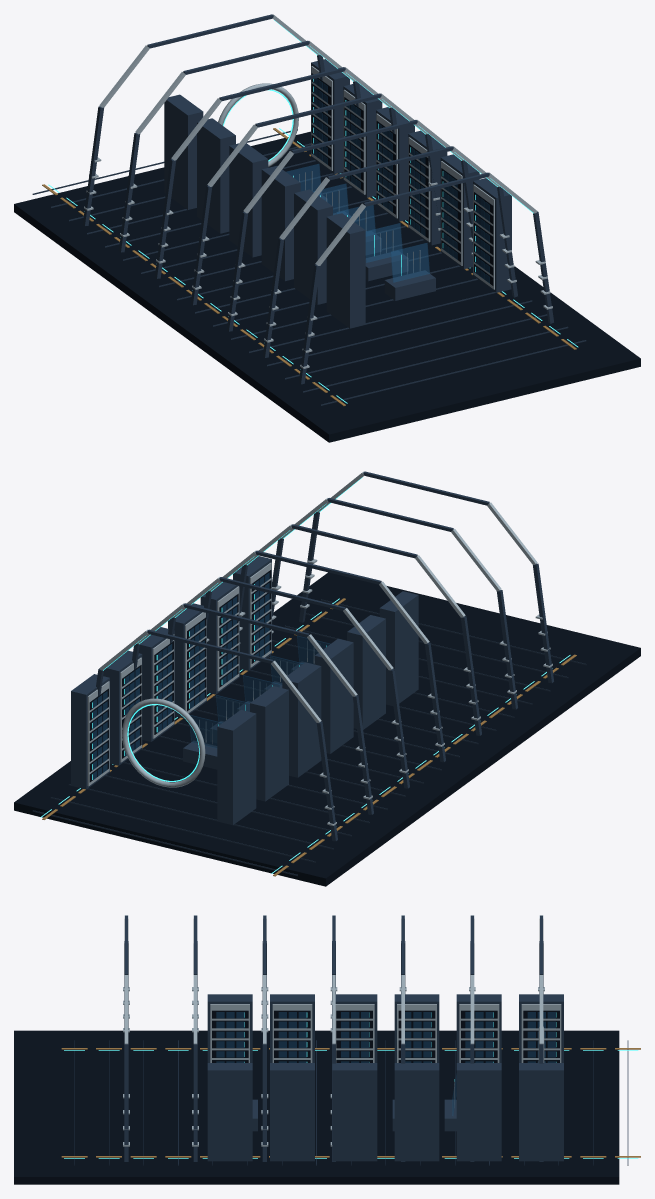
File: archive-mobile.glb
3 views of the same model, one above another, from view 1: azimuth 30°, elevation 25°; view 2: azimuth 150°, elevation 25°; view 3: azimuth 270°, elevation 25° (orthographic). The views are drawn at different scales.
Parts seen in each view (by area): view 1: object 1, architectural-heart, object 87, object 177, object 132, object 117, object 147, object 162, object 102, object 94, object 109, object 101 (+6 smaller); view 2: object 1, architectural-heart, object 177, object 132, object 87, object 162, object 102, object 117, object 147, object 101, object 146, object 116 (+5 smaller); view 3: object 1, architectural-heart, object 94, object 109, object 124.
Part boxes in pixels (bbox=[...]): object 1: bbox=[14, 131, 640, 442]; architectural-heart: bbox=[164, 59, 511, 328]; object 87: bbox=[299, 264, 320, 384]; object 177: bbox=[82, 106, 103, 225]; object 132: bbox=[191, 185, 212, 305]; object 117: bbox=[227, 212, 248, 331]; object 147: bbox=[155, 159, 176, 278]; object 162: bbox=[119, 132, 140, 252]; object 102: bbox=[263, 238, 284, 357]; object 94: bbox=[533, 211, 553, 323]; object 109: bbox=[497, 186, 517, 297]; object 101: bbox=[363, 172, 489, 206]; object 1: bbox=[14, 572, 640, 886]; architectural-heart: bbox=[71, 556, 418, 825]; object 177: bbox=[316, 721, 337, 841]; object 132: bbox=[424, 642, 445, 762]; object 87: bbox=[533, 563, 553, 683]; object 162: bbox=[352, 695, 373, 814]; object 102: bbox=[496, 590, 517, 709]; object 117: bbox=[461, 616, 481, 735]; object 147: bbox=[388, 669, 409, 788]; object 101: bbox=[363, 471, 489, 505]; object 146: bbox=[255, 550, 381, 584]; object 116: bbox=[327, 498, 453, 531]; object 1: bbox=[14, 1030, 619, 1184]; architectural-heart: bbox=[207, 994, 563, 1161]; object 94: bbox=[124, 1044, 128, 1161]; object 109: bbox=[193, 1044, 197, 1161]; object 124: bbox=[262, 1044, 266, 1161].
Size of the model in its own units: 20 by 10.64 by 36.25.
